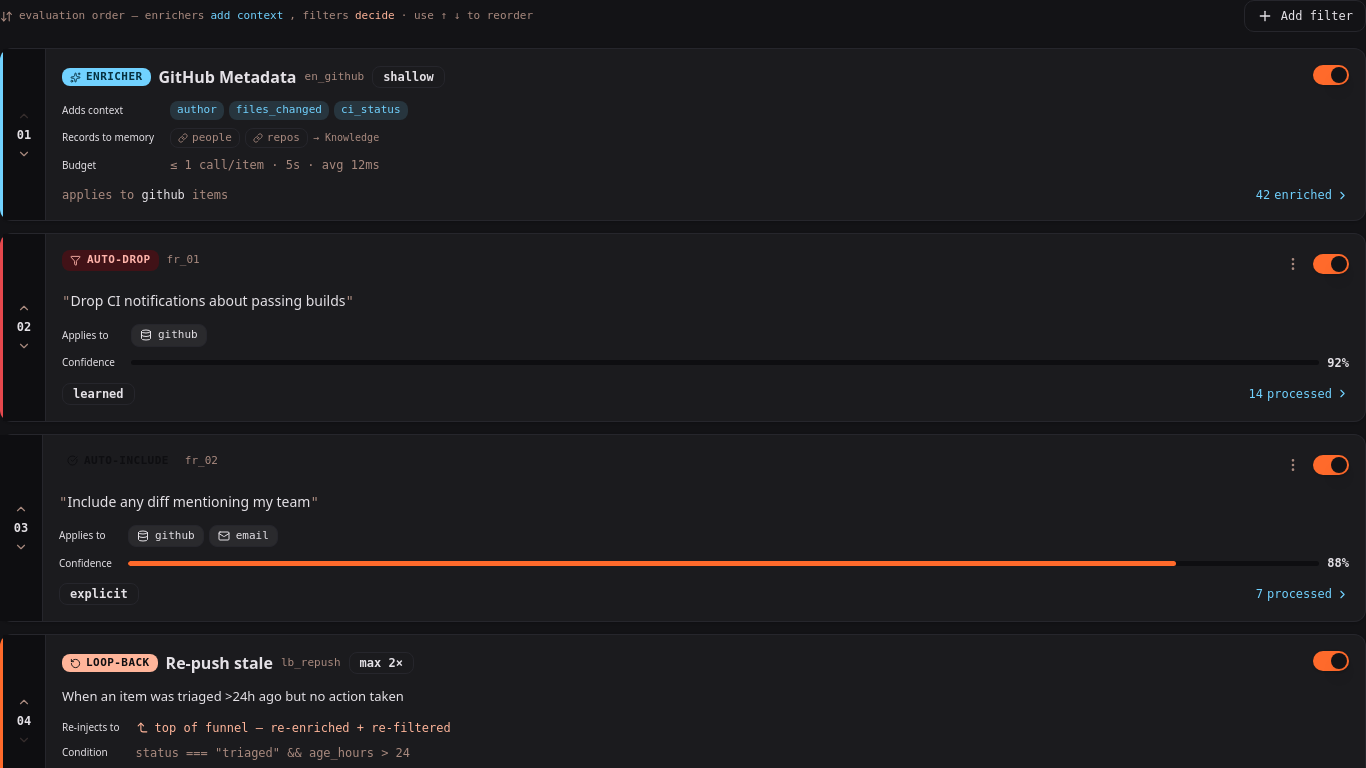
it: Filters page — add filter dialog › opens and closes the add filter dialog
The width and height of the screenshot is (1366, 768).
What coordinates should you click on to do the following:
click the button with test id "add-filter-button"
I would click on:
 (1305, 16)
Its box is x1=1244 y1=0 x2=1365 y2=32.
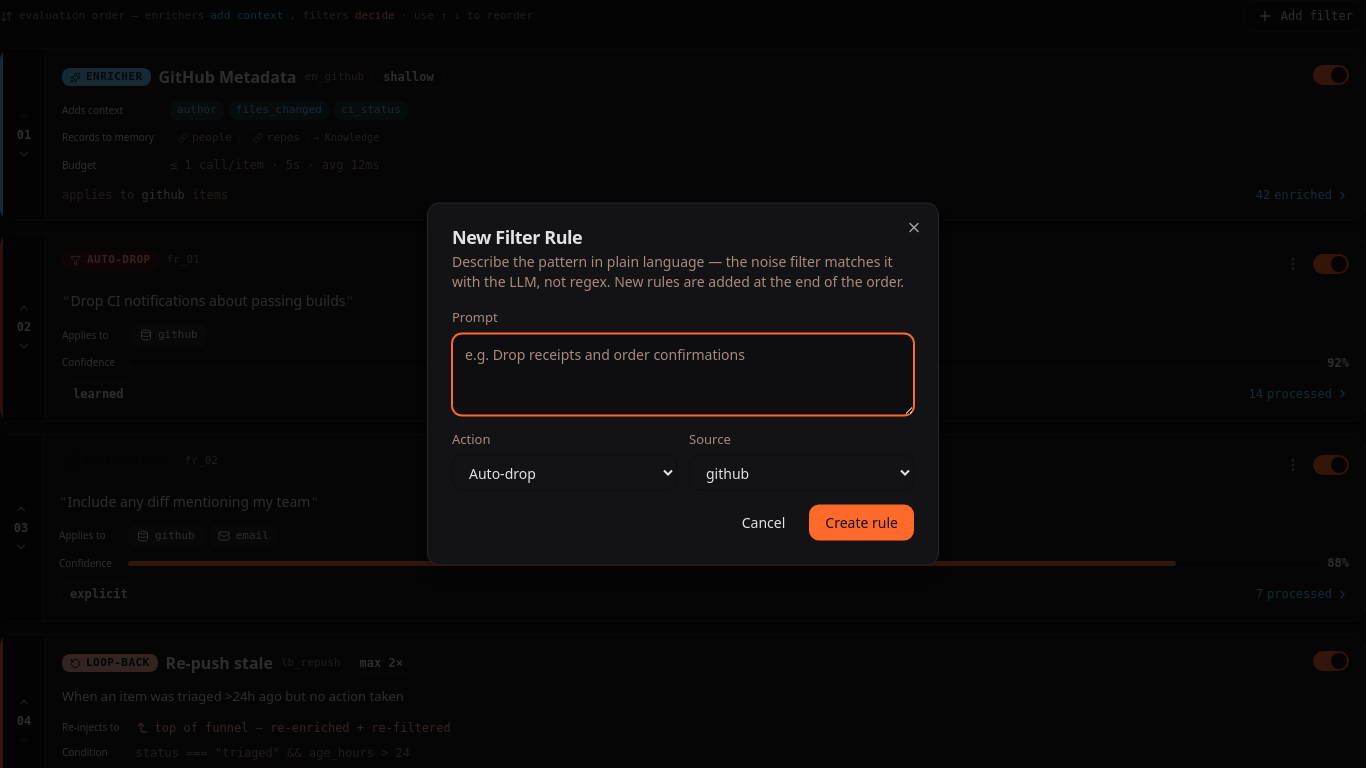
Check: the heading "New Filter Rule" is shown, box x1=452 y1=224 x2=582 y2=248
Check: the text "noise filter matches it with the LLM" is shown, box x1=452 y1=252 x2=904 y2=290
// Close via Cancel button
What coordinates should you click on to do the following:
click the button "Cancel"
I would click on:
 (764, 522)
Its box is x1=726 y1=504 x2=801 y2=540.
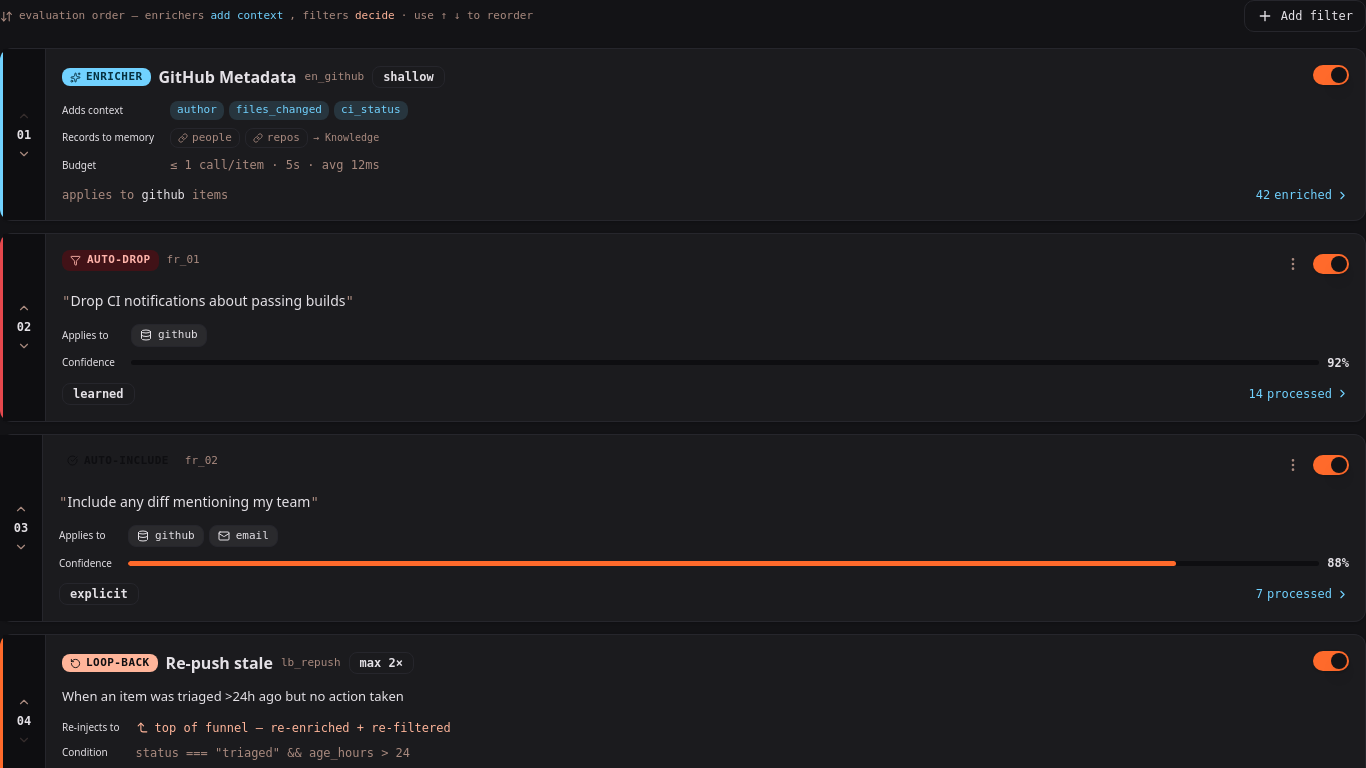
Check: the heading "New Filter Rule" is gone
